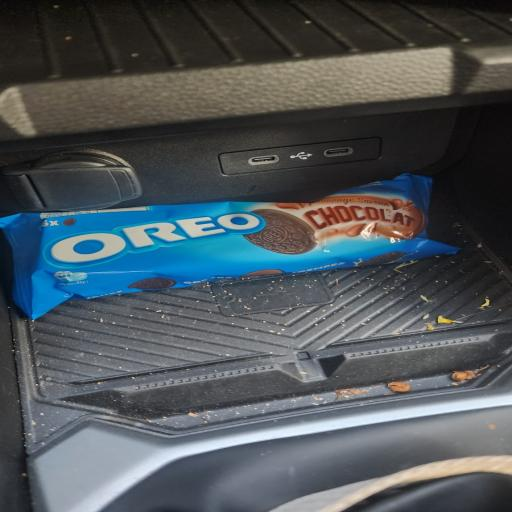oreo: (0, 156, 489, 335)
